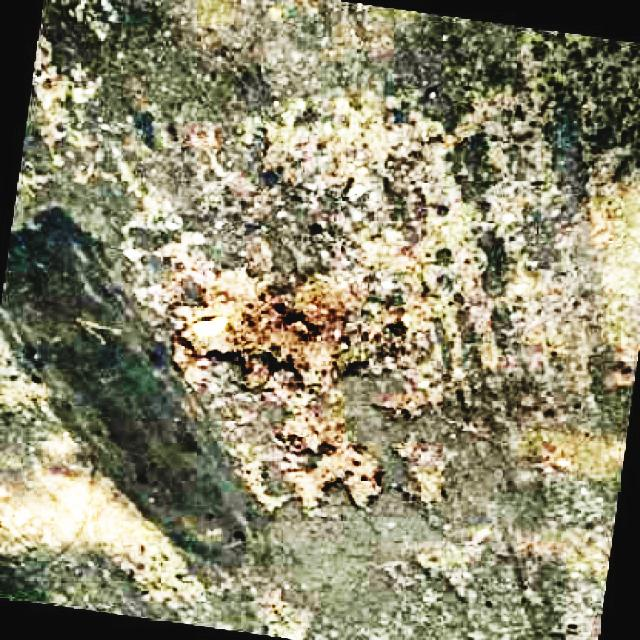pothole: (178, 253, 410, 384), (248, 432, 377, 517)
